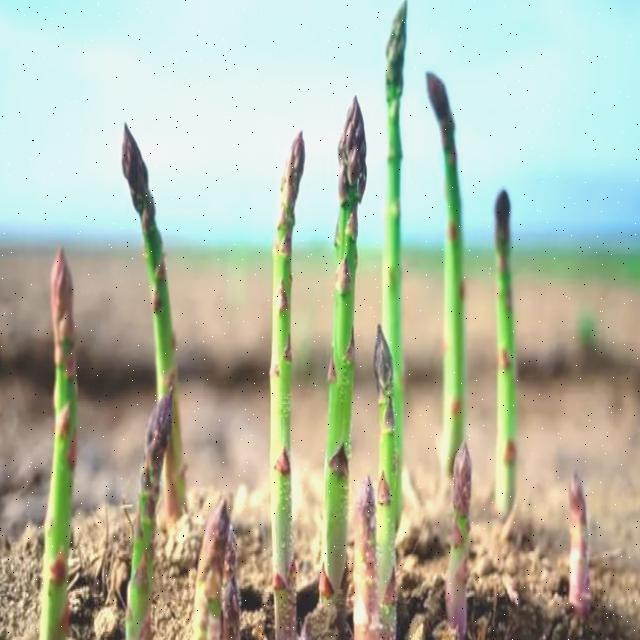aspargus: (319, 100, 366, 612), (272, 133, 304, 637), (40, 250, 79, 640), (126, 369, 177, 640), (494, 191, 518, 517), (444, 438, 476, 640), (565, 471, 589, 622)
